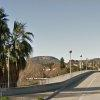Palm tree: (1, 5, 33, 90)
